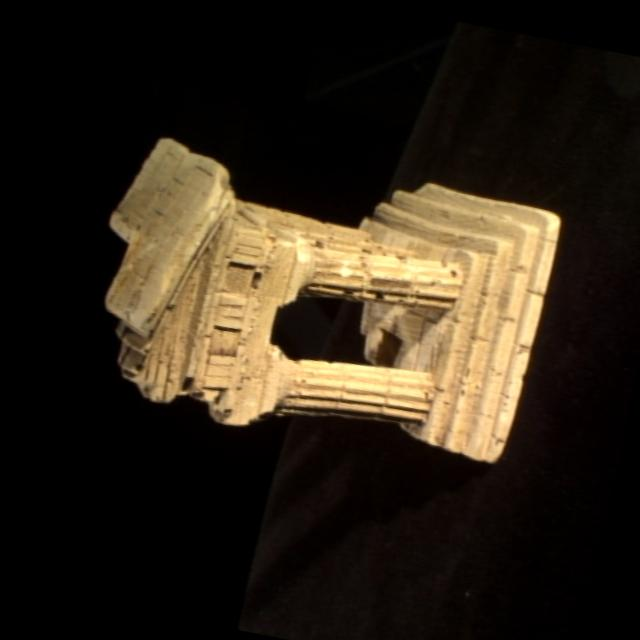Instance-Segmentation: (106, 137, 559, 461)
